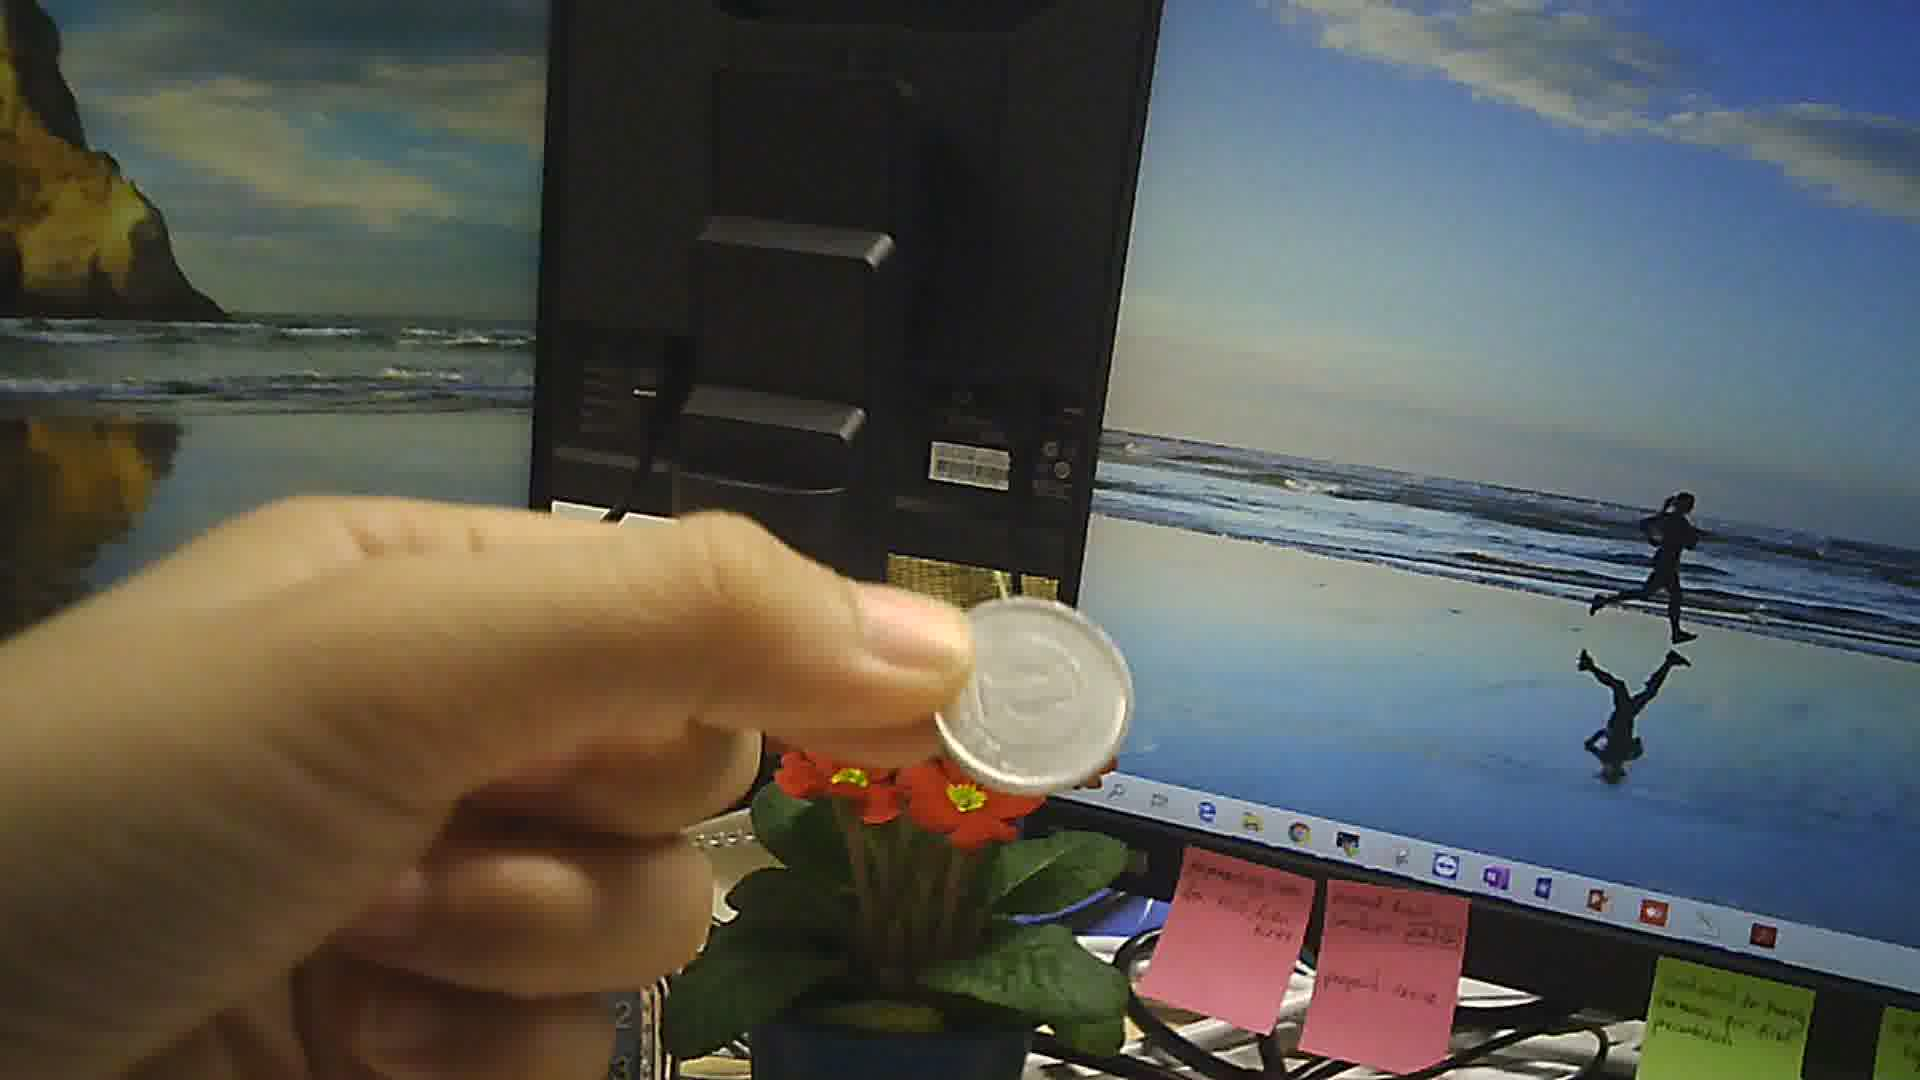1 Yen: (916, 578, 1145, 799)
